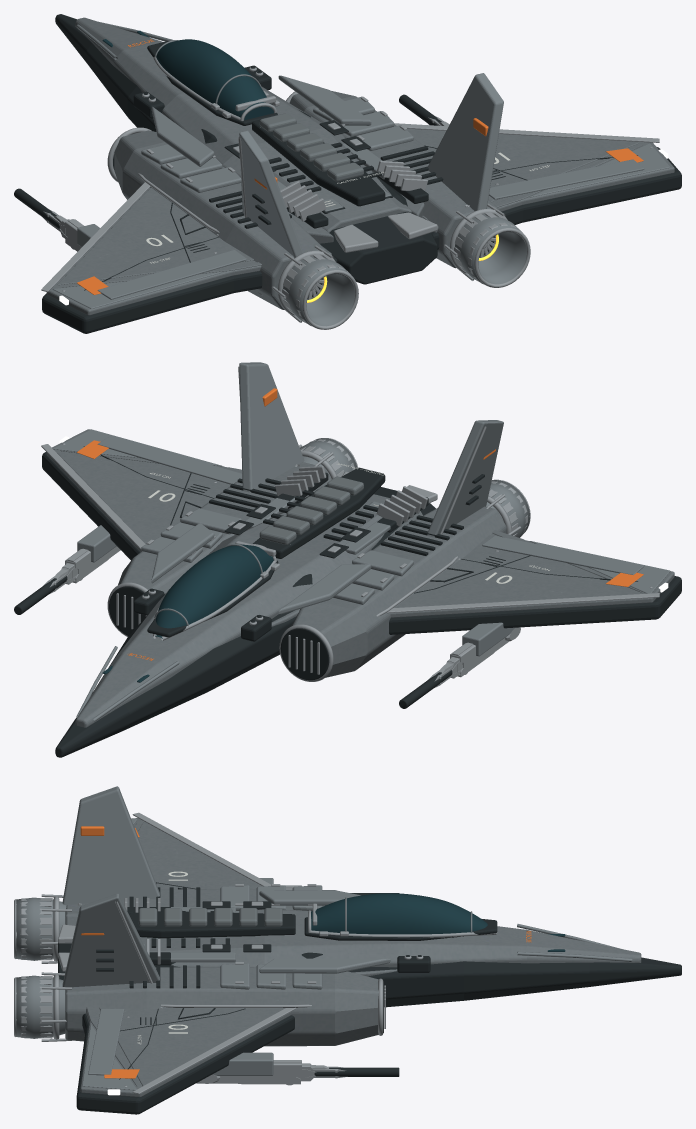
The model's file is vanguard.glb.
The picture shows the model from 3 angles, top to bottom: view 1: azimuth 30°, elevation 25°; view 2: azimuth 150°, elevation 25°; view 3: azimuth 270°, elevation 25°; orthographic projection. The views are drawn at different scales.
Visible parts, largest first — view 1: 主装甲_陶瓷金属涂层, 次级装甲_深色钢, 碳化结构与接缝, 拉丝钛合金, 镀膜座舱玻璃, 识别色; view 2: 主装甲_陶瓷金属涂层, 碳化结构与接缝, 次级装甲_深色钢, 拉丝钛合金, 镀膜座舱玻璃, 识别色; view 3: 主装甲_陶瓷金属涂层, 次级装甲_深色钢, 碳化结构与接缝, 拉丝钛合金, 镀膜座舱玻璃, 识别色.
Part boxes in pixels (left/top/right/bottom): 主装甲_陶瓷金属涂层: left=46, top=17, right=674, bottom=315; 次级装甲_深色钢: left=52, top=21, right=670, bottom=326; 碳化结构与接缝: left=14, top=14, right=681, bottom=333; 拉丝钛合金: left=41, top=57, right=659, bottom=329; 镀膜座舱玻璃: left=102, top=30, right=273, bottom=120; 识别色: left=77, top=39, right=643, bottom=294; 主装甲_陶瓷金属涂层: left=46, top=429, right=674, bottom=727; 碳化结构与接缝: left=14, top=446, right=681, bottom=757; 次级装甲_深色钢: left=53, top=362, right=670, bottom=721; 拉丝钛合金: left=41, top=366, right=659, bottom=687; 镀膜座舱玻璃: left=102, top=544, right=273, bottom=682; 识别色: left=77, top=388, right=643, bottom=660; 主装甲_陶瓷金属涂层: left=65, top=818, right=641, bottom=1096; 次级装甲_深色钢: left=16, top=786, right=632, bottom=1090; 碳化结构与接缝: left=58, top=882, right=681, bottom=1114; 拉丝钛合金: left=14, top=812, right=496, bottom=1094; 镀膜座舱玻璃: left=311, top=893, right=565, bottom=951; 识别色: left=80, top=826, right=531, bottom=1078.
Bounding box in the file's own units: 8.99 × 2.34 × 9.04.
Materials: 9 (1 with a texture image).
